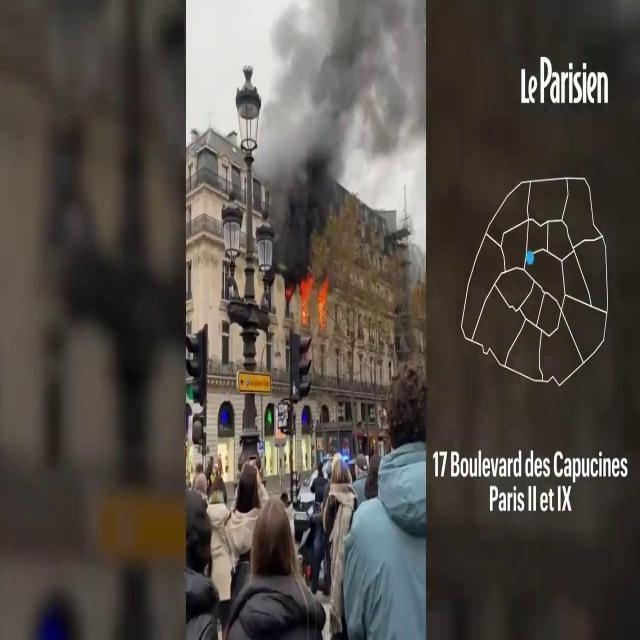Fire: (297, 268, 330, 330)
Smoke: (238, 0, 424, 260)
